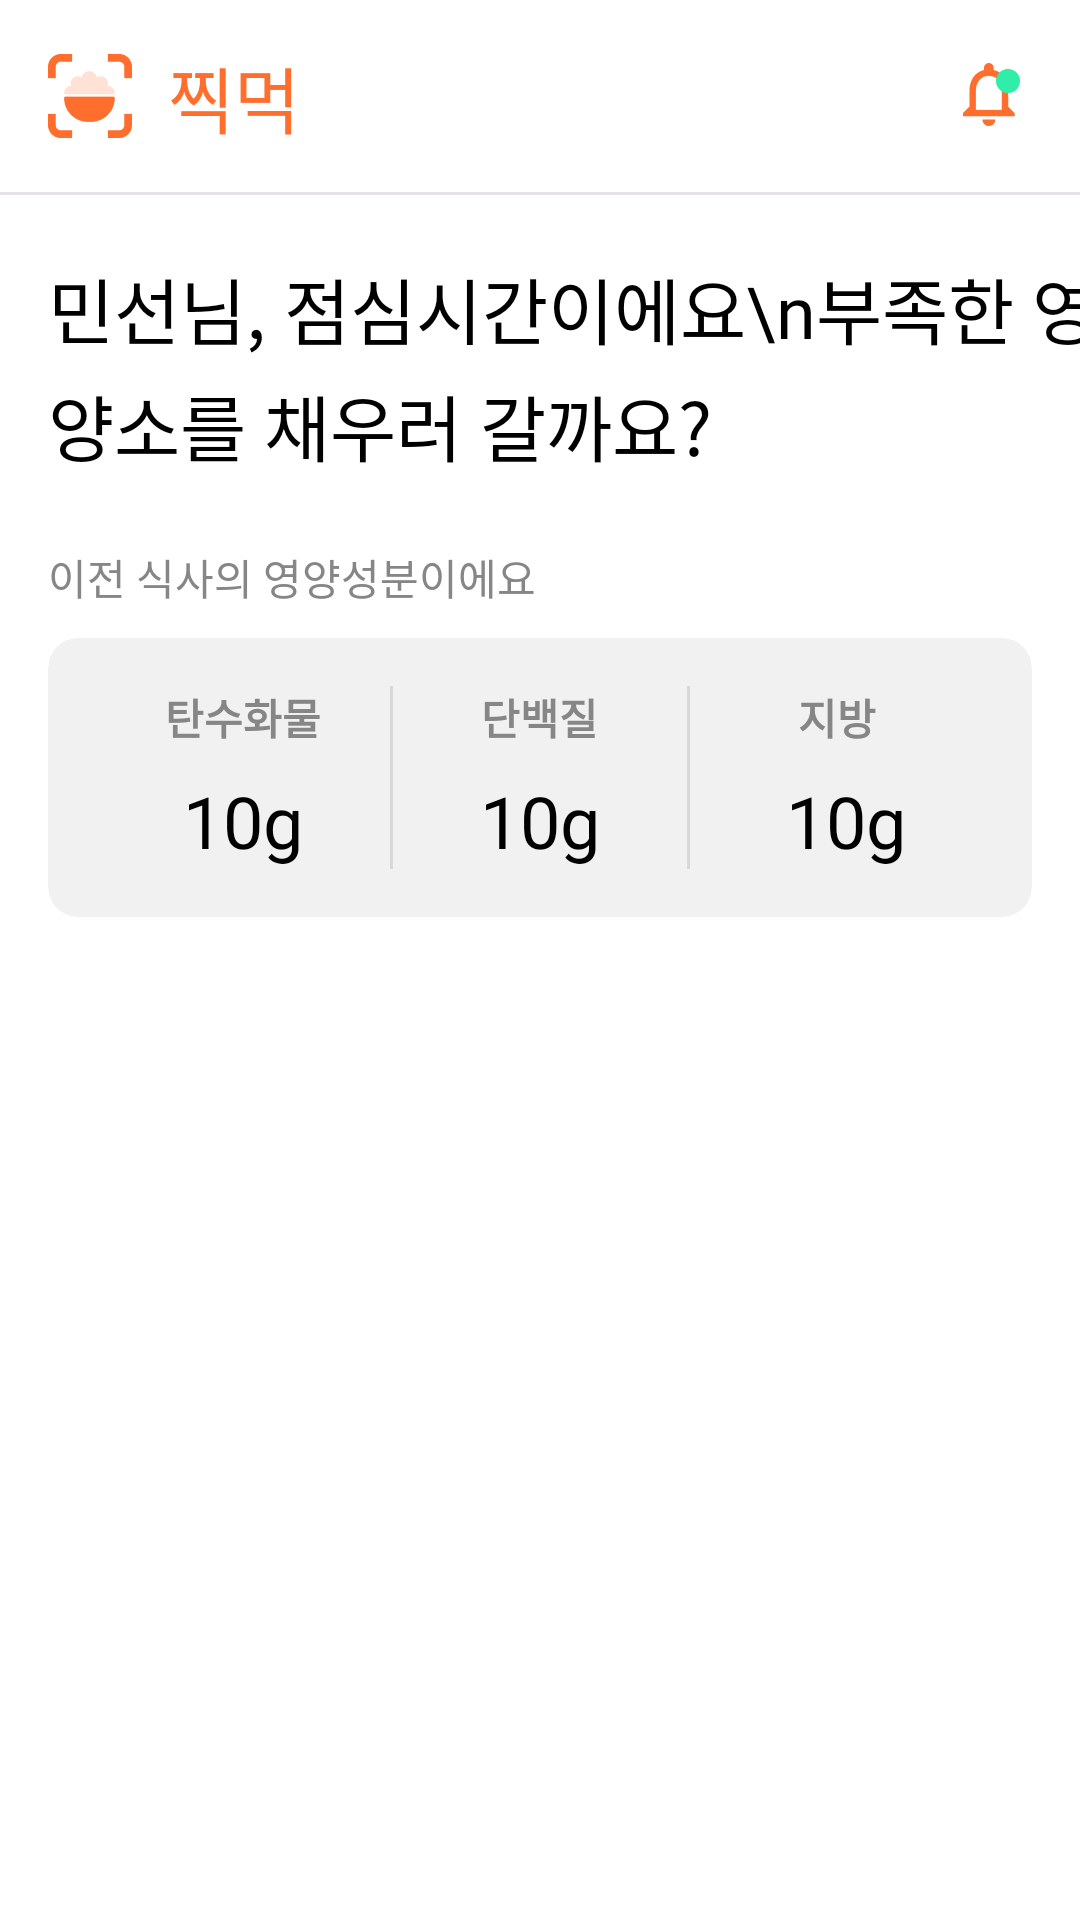

Screen size 1080x1920. Icon name, then its center in pixels as (x,y):
alarm: (991,94)
